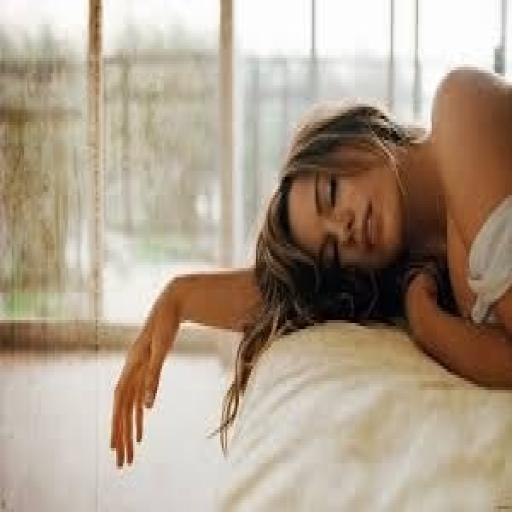sleeping: (108, 61, 510, 472)
